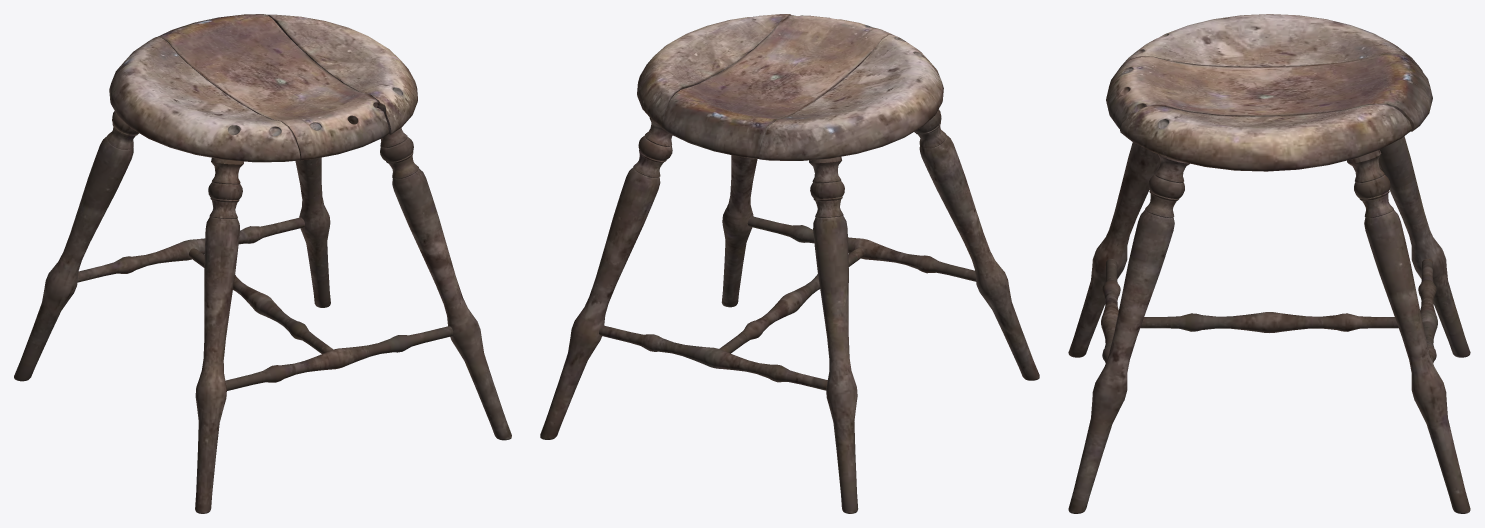
Rendered from wooden_stool_01.glb.
3 views of the same model, side by side, from view 1: azimuth 30°, elevation 25°; view 2: azimuth 150°, elevation 25°; view 3: azimuth 270°, elevation 25° (orthographic). The views are drawn at different scales.
Parts seen in each view (by area): view 1: wooden_stool_01; view 2: wooden_stool_01; view 3: wooden_stool_01.
Boxes of the visible parts, x1=… form: wooden_stool_01: x1=14, y1=14, x2=511, y2=513; wooden_stool_01: x1=540, y1=14, x2=1039, y2=513; wooden_stool_01: x1=1068, y1=14, x2=1470, y2=513.
Size of the model in its own units: 0.4254 by 0.4373 by 0.4424.
Materials: 1 (1 with a texture image).
